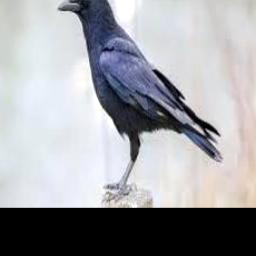Crow: (58, 0, 224, 203)
